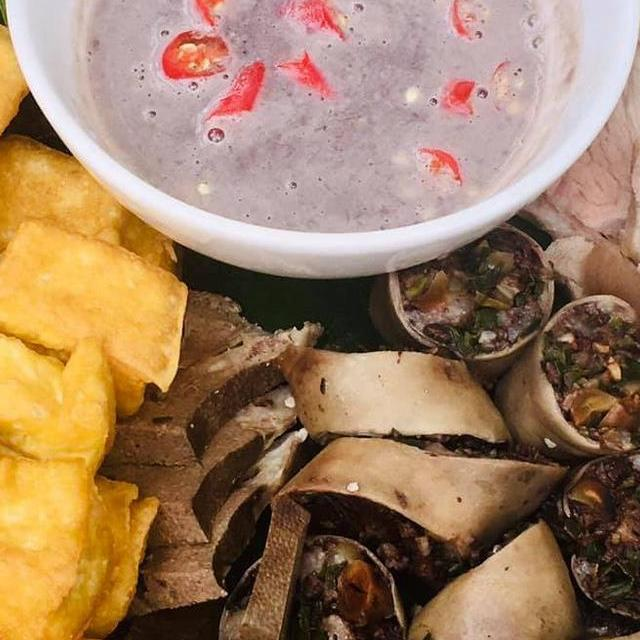bun dau: (0, 0, 640, 640)
dau hu: (0, 0, 234, 640)
doi sun: (264, 197, 640, 640)
gan: (24, 257, 337, 627)
thit heo: (502, 0, 640, 640)
